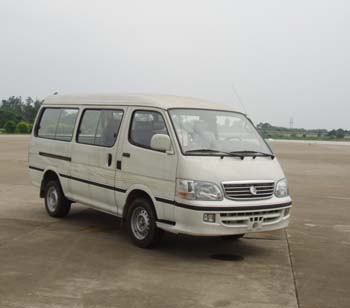midcar: (32, 80, 285, 253)
